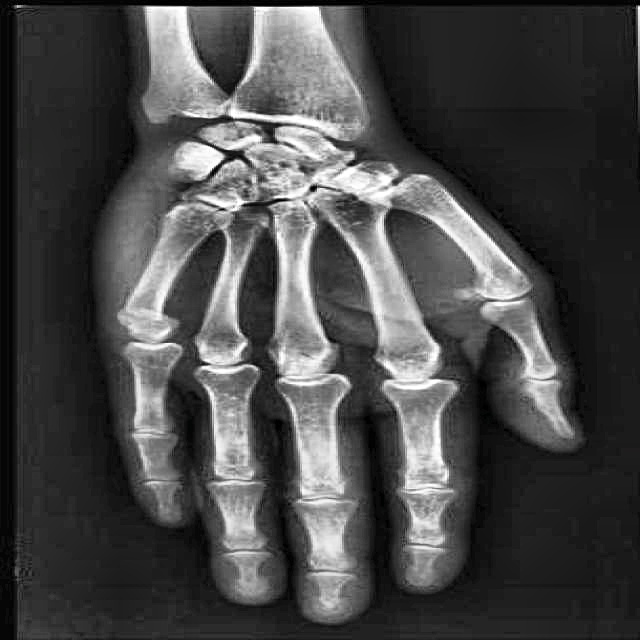Comminuted: (106, 290, 188, 345)
